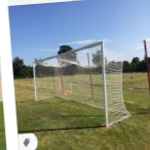goals: (31, 39, 131, 132)
